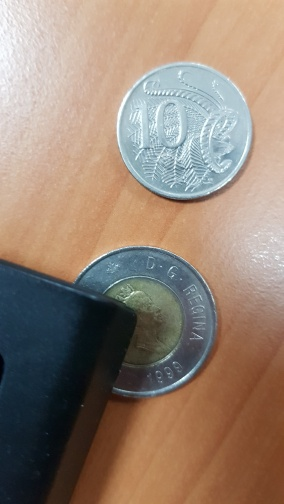coin: (73, 247, 218, 399), (115, 60, 254, 202)
